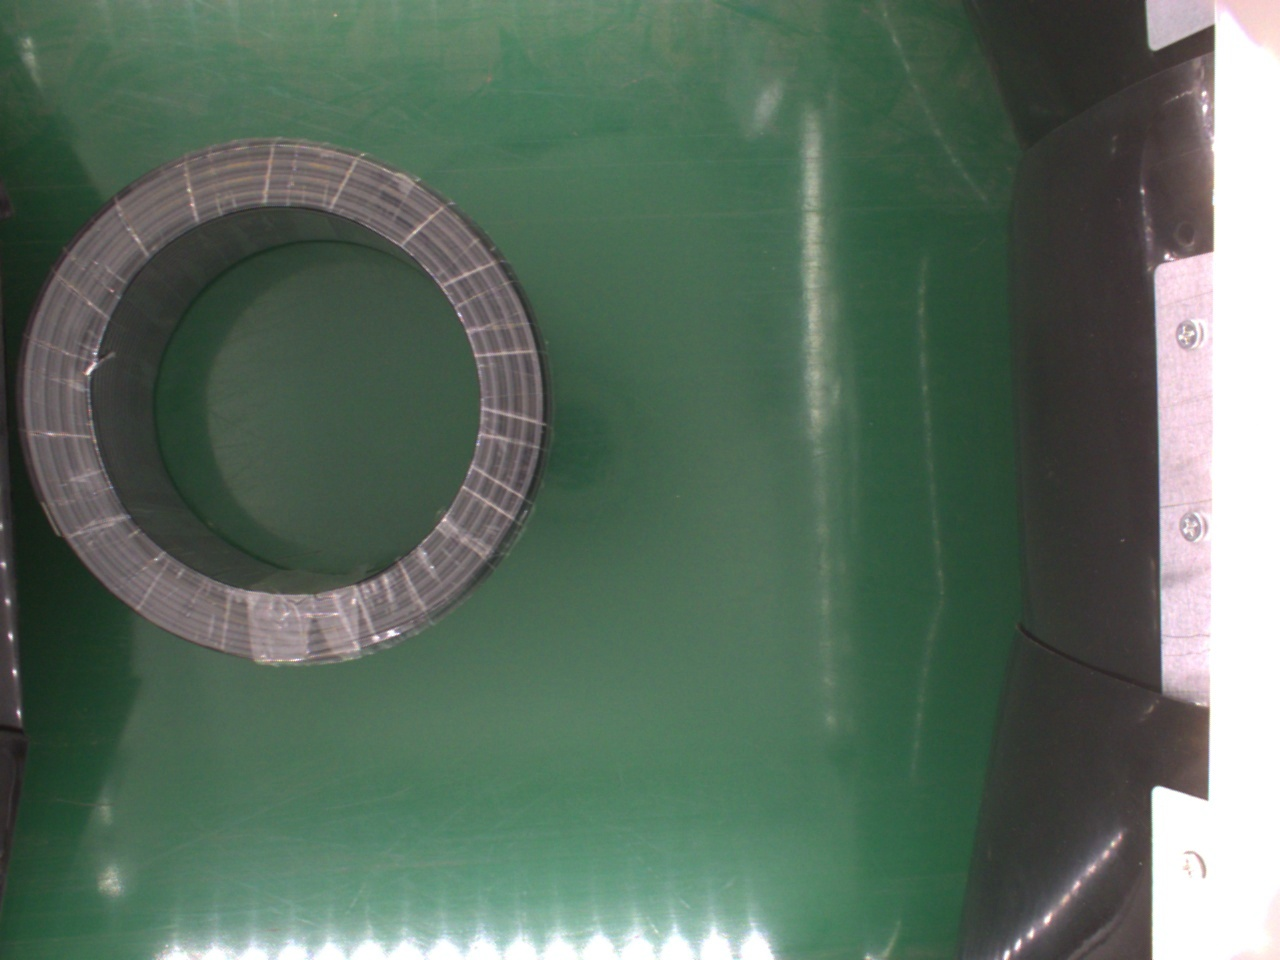black: (21, 133, 552, 669)
